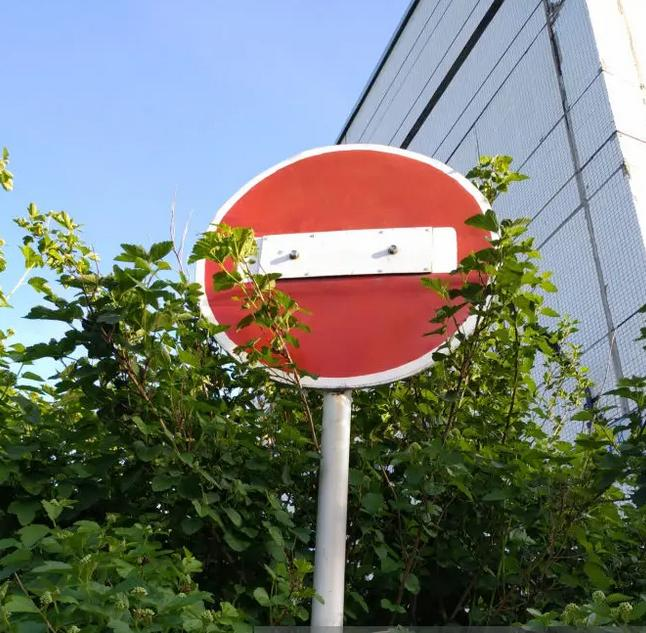obstructed_road_sign: (192, 142, 503, 393)
